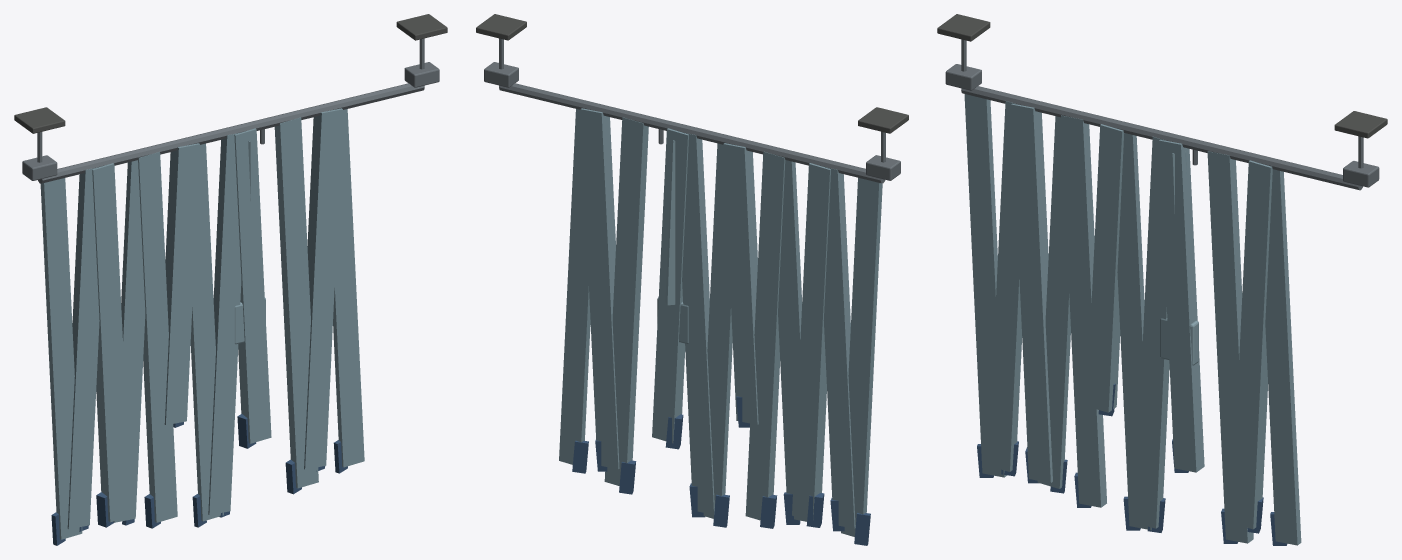
File: ward_curtain.glb
3 views of the same model, side by side, from view 1: azimuth 30°, elevation 25°; view 2: azimuth 150°, elevation 25°; view 3: azimuth 330°, elevation 25° (orthographic). The views are drawn at different scales.
Visible parts, largest first — view 1: ward_curtain; view 2: ward_curtain; view 3: ward_curtain.
Part boxes in pixels (x1,y1,x2,y2): ward_curtain: [14, 14, 447, 545]; ward_curtain: [476, 14, 908, 545]; ward_curtain: [937, 14, 1387, 545].
Size of the model in its own units: 2.28 by 2.35 by 0.18.
Materials: 1 (1 with a texture image).
